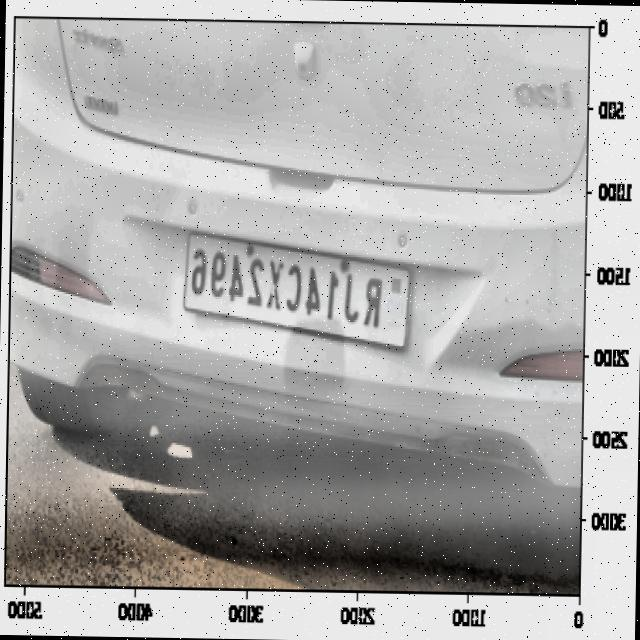license_plate: (186, 244, 391, 331)
